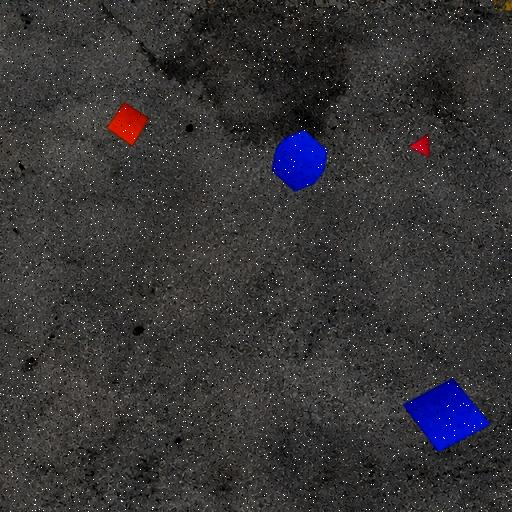BLUE_SQUARE: (402, 378, 492, 452)
RED_SQUARE: (106, 102, 150, 147)
